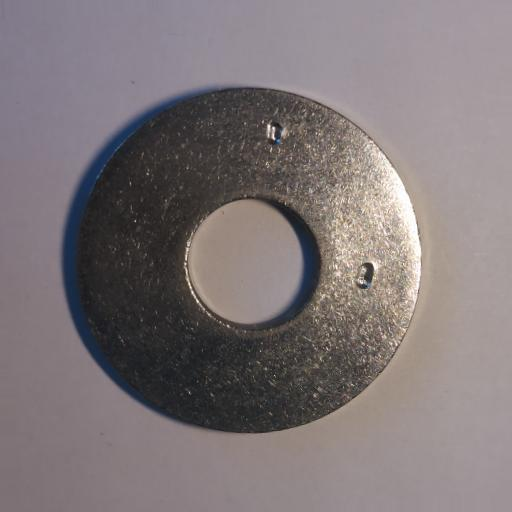circular_cavity: (356, 262, 376, 289), (266, 121, 284, 143)
